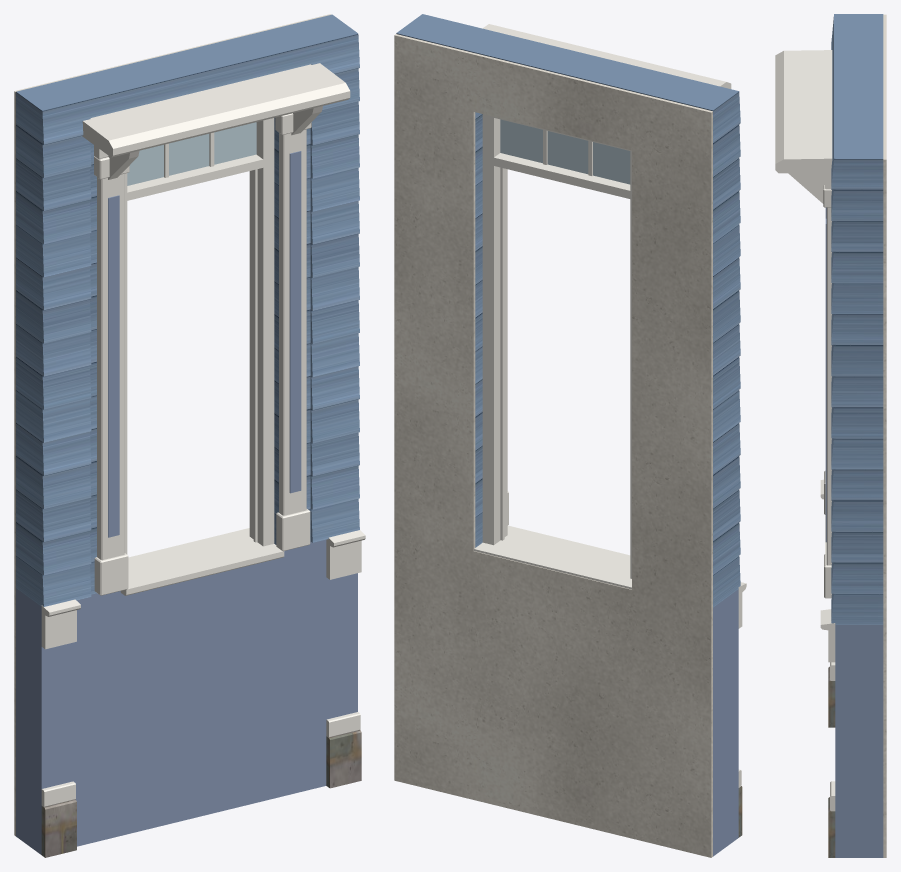
File: f_g_door_d.glb
The picture shows the model from 3 angles, left to right: view 1: azimuth 30°, elevation 25°; view 2: azimuth 150°, elevation 25°; view 3: azimuth 270°, elevation 25°; orthographic projection. The views are drawn at different scales.
Parts seen in each view (by area): view 1: f_g_door_d_acc_d, f_g_door_d_siding_d, f_g_door_d_trim, f_g_door_d_frame, f_g_door_d_glass, f_g_door_d_plinth, f_g_door_d_plaster; view 2: f_g_door_d_plaster, f_g_door_d_siding_d, f_g_door_d_frame, f_g_door_d_trim, f_g_door_d_acc_d, f_g_door_d_glass; view 3: f_g_door_d_siding_d, f_g_door_d_acc_d, f_g_door_d_trim, f_g_door_d_plaster, f_g_door_d_plinth.
Boxes of the visible parts, x1,y1,x2,y2 form: f_g_door_d_acc_d: (16, 151, 357, 854); f_g_door_d_siding_d: (16, 14, 359, 606); f_g_door_d_trim: (41, 63, 365, 806); f_g_door_d_frame: (124, 118, 274, 554); f_g_door_d_glass: (127, 122, 256, 185); f_g_door_d_plinth: (41, 730, 361, 857); f_g_door_d_plaster: (14, 14, 330, 836); f_g_door_d_plaster: (394, 34, 712, 857); f_g_door_d_siding_d: (396, 14, 740, 607); f_g_door_d_frame: (482, 114, 631, 578); f_g_door_d_trim: (474, 24, 746, 787); f_g_door_d_acc_d: (713, 589, 738, 856); f_g_door_d_glass: (500, 119, 630, 184); f_g_door_d_siding_d: (831, 14, 883, 624); f_g_door_d_acc_d: (825, 207, 883, 857); f_g_door_d_trim: (775, 50, 835, 811); f_g_door_d_plaster: (883, 14, 886, 857); f_g_door_d_plinth: (828, 666, 835, 857).
Size of the model in its own units: 2 by 4.5 by 0.65.
Materials: 7 (3 with a texture image).
